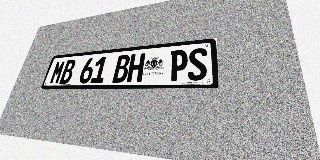1: (90, 56, 109, 83)
6: (78, 58, 96, 84)
B: (112, 54, 131, 83), (59, 59, 77, 84)
H: (126, 53, 145, 82)
M: (49, 60, 66, 84)
P: (169, 49, 188, 81)
S: (187, 47, 207, 81)
